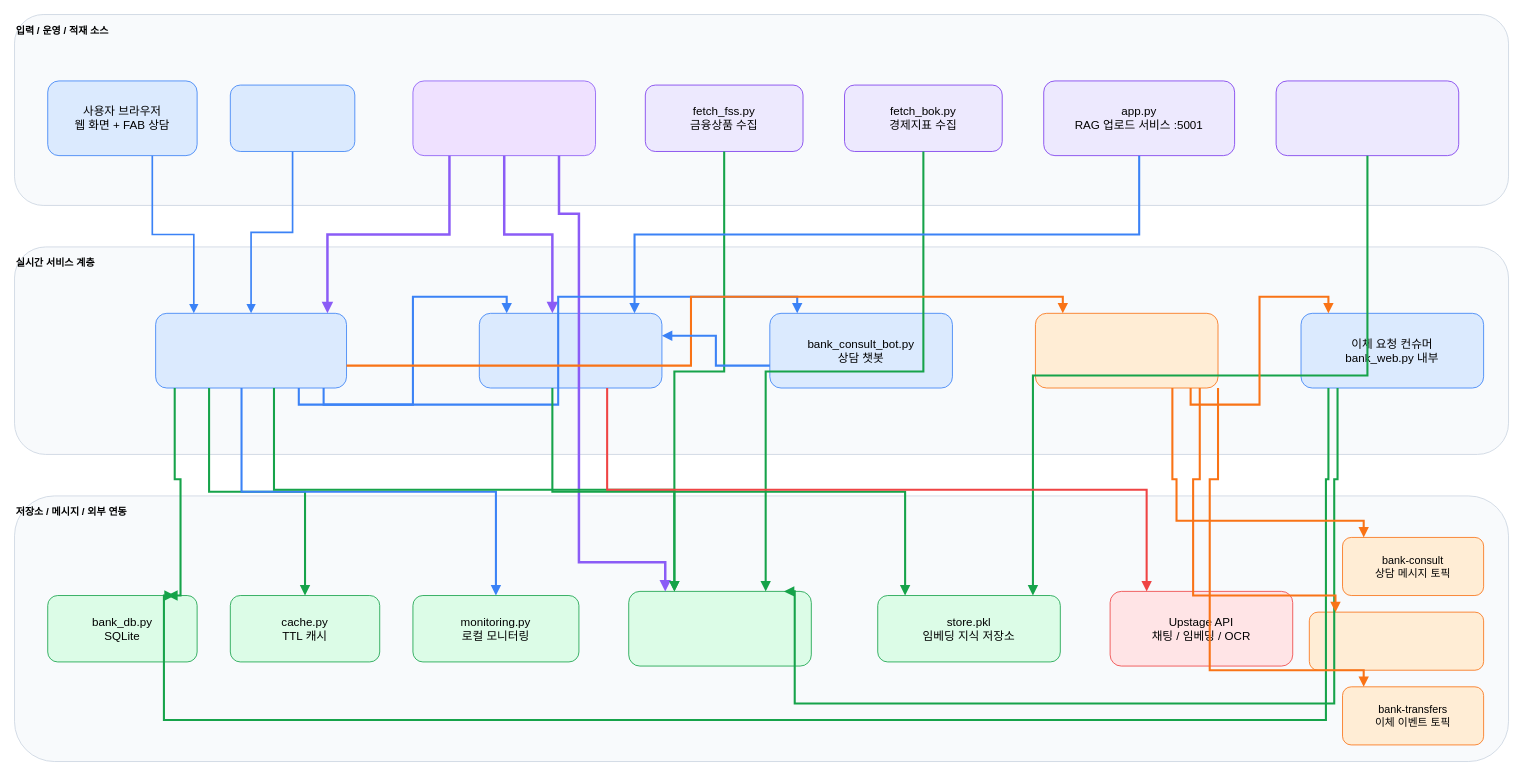
The diagram is 1523 pixels wide and 776 high, and some of its shapes have lost their labels. The shapes that lost their labels are listed below. From the top down, each one's centre as x and y in pixels, then its label:
At [292,117]: "관리자 / 운영자".
At [504,118]: "bank_agents.py 에이전트 워크플로".
At [1367,118]: "seed_consult_kb.py 상담 KB 시드".
At [251,350]: "bank_web.py Flask + Socket.IO".
At [570,350]: "rag_core.py 검색 + 프롬프트 구성".
At [1126,350]: "Kafka 브로커 localhost:9092".
At [719,628]: "Elasticsearch 상품 + 이체 로그".
At [1396,640]: "bank-transfer-requests 비동기 이체 요청 토픽".
